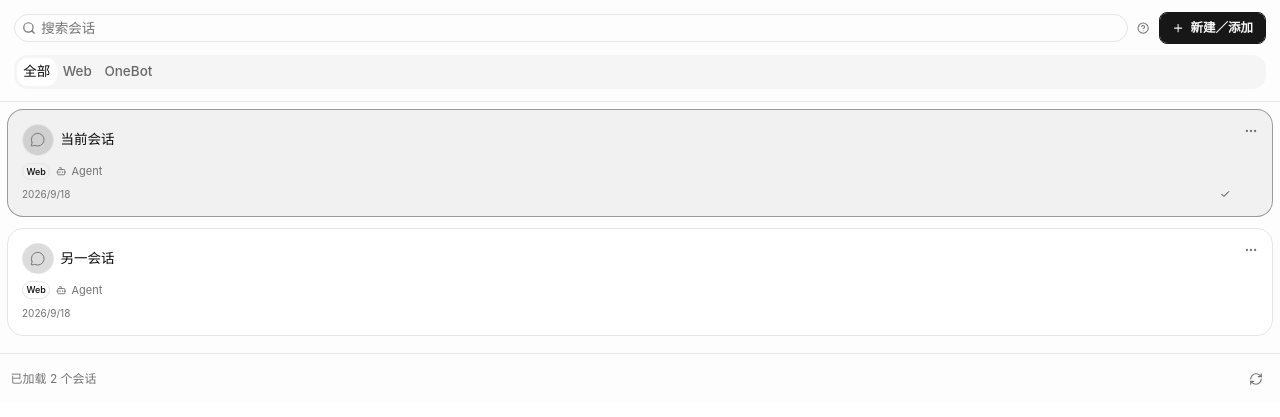
Test: visible overflow opens the same actions without selecting another conversation
The image size is (1280, 417).
Click the button named "会话操作：另一会话". click: x=1251, y=250
box: 1237,236 -> 1265,264
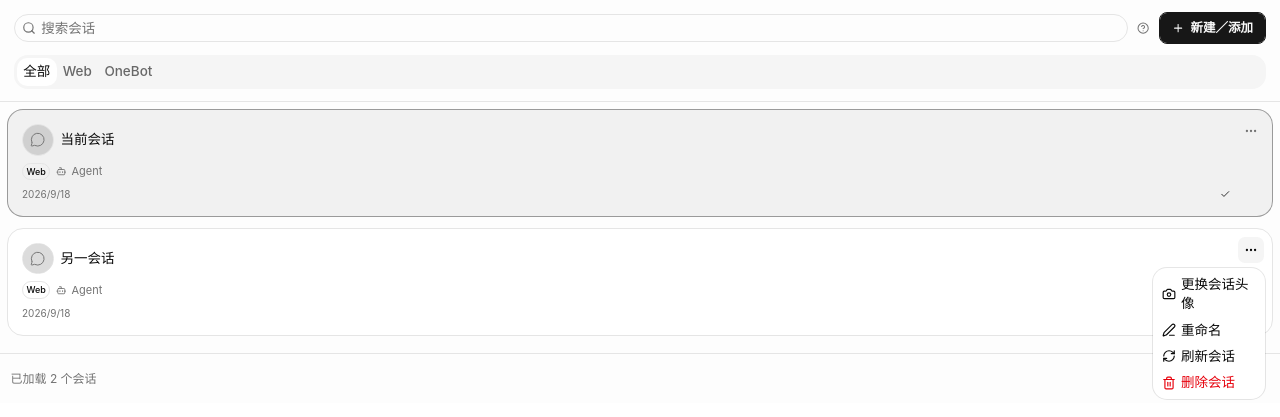
Expected: the menu items read "更换会话头像", "重命名", "刷新会话", "删除会话", in this order, 1162,276 -> 1249,311; 1162,322 -> 1222,338; 1162,348 -> 1235,364; 1162,374 -> 1235,390
Press Escape
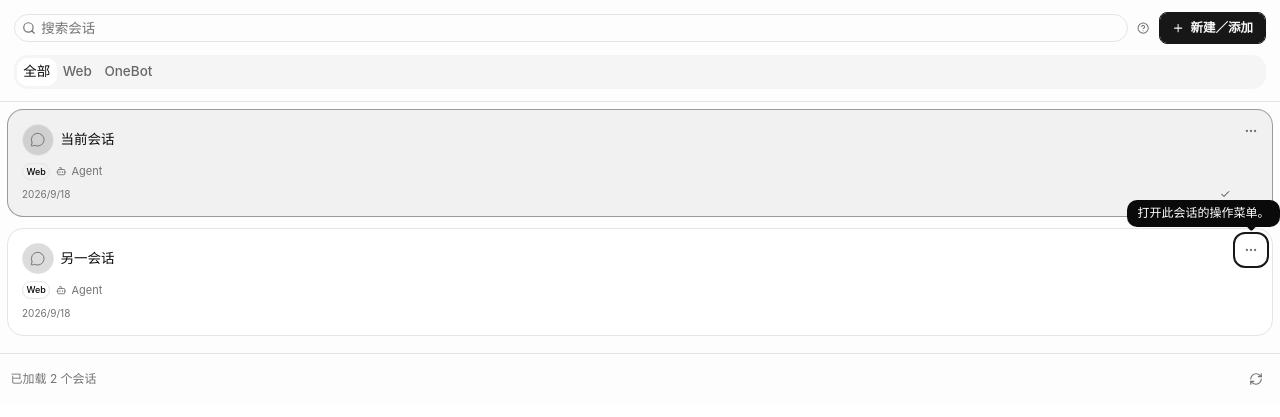
Expected: the menu is gone
